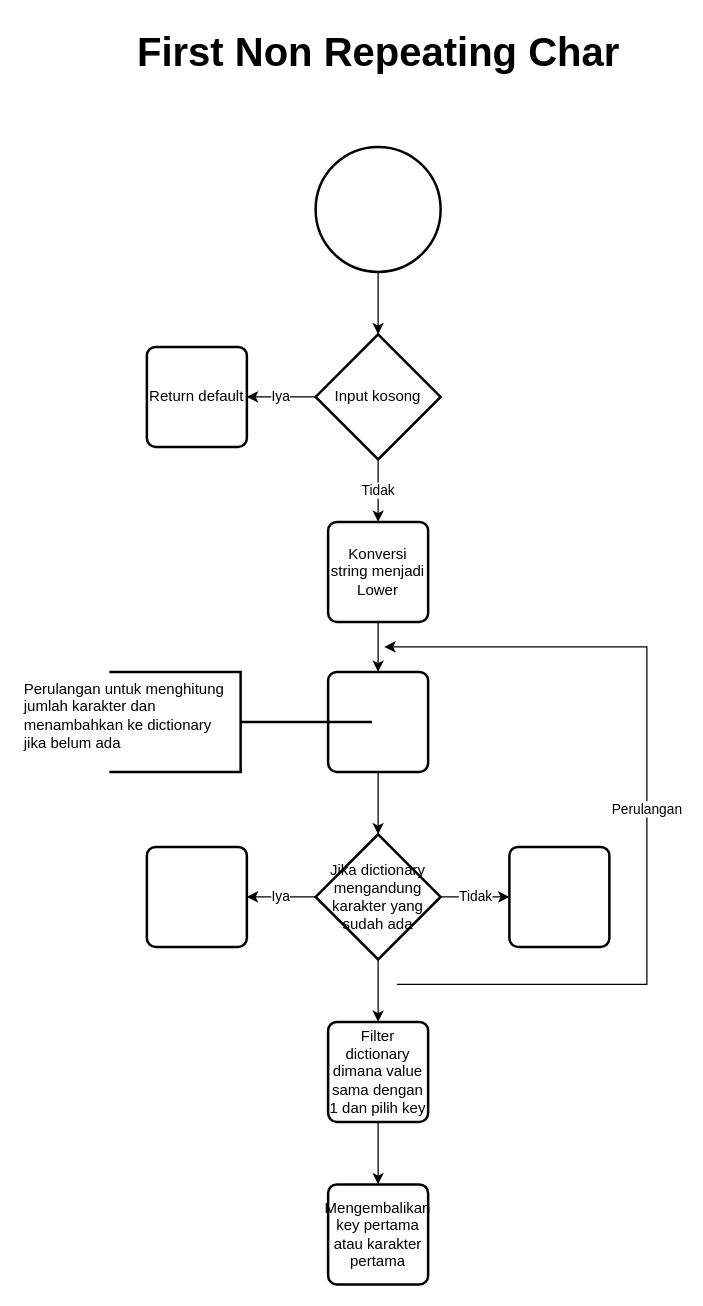
Image size: 703x1306. Some labels were removed from this diagram. The centre of each missing label's shape, as x and y in pixels:
Input: [377,208]
Tambahkan 1 untuk valuenya: [196,896]
Tambahkan karakter ke dalam dictionary dan beri nilai valuenya 1: [559,896]
